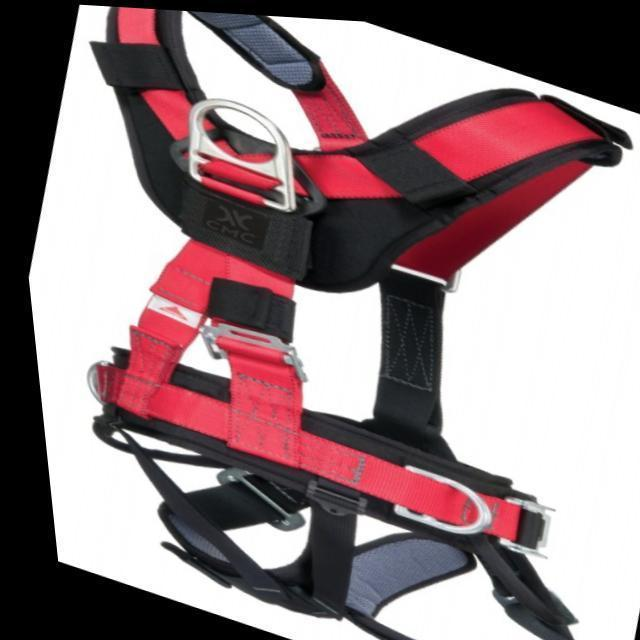Harness: (88, 9, 635, 640)
